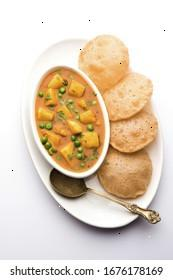puri: (101, 36, 161, 199)
